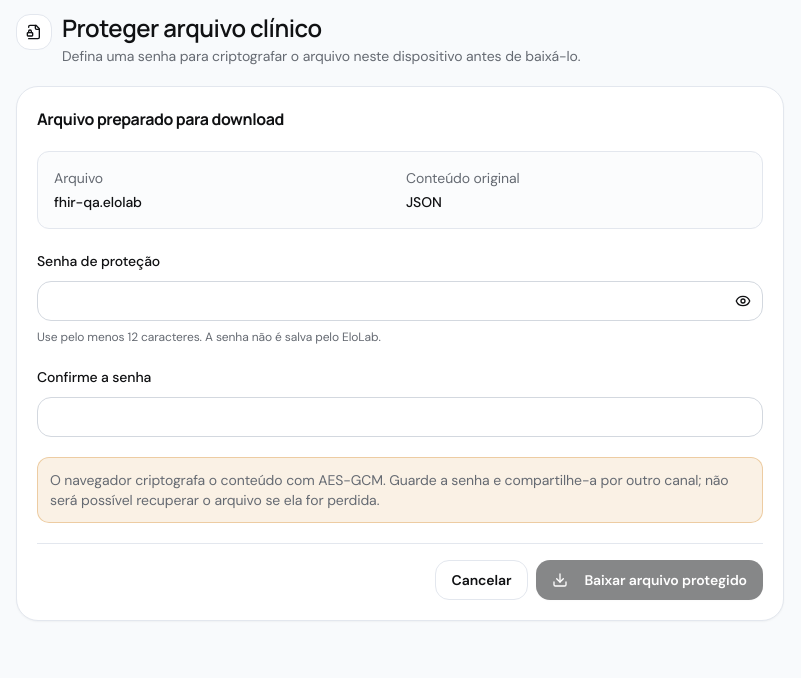
ExportacaoClinicaProtegida › keeps the page and password when the audit step fails
Type "SenhaMuitoSegura123" into the password field labelled "Senha de proteção" at [400, 301], box [37,281,763,321]
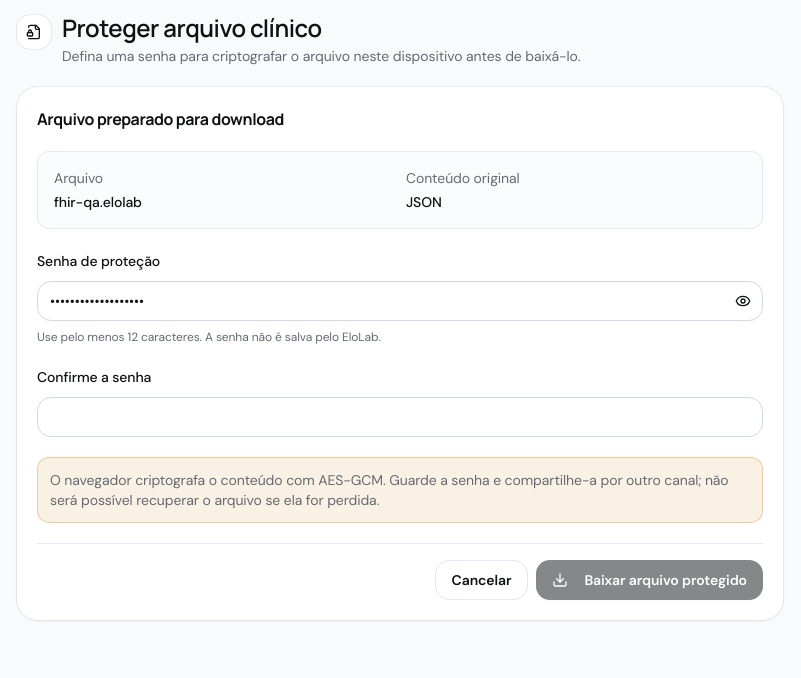
Type "SenhaMuitoSegura123" into the password field labelled "Confirme a senha" at [400, 417], box [37,397,763,437]
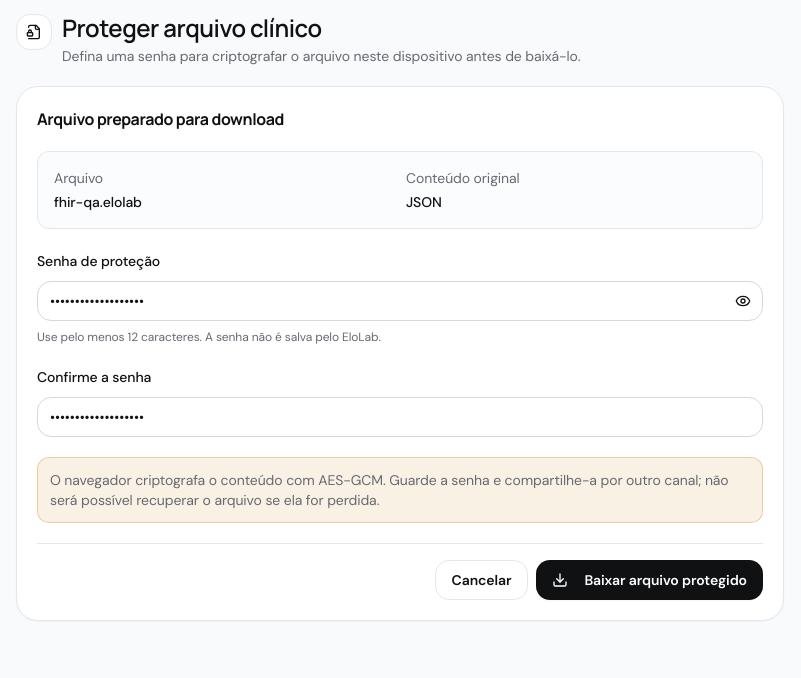
Click the button "Baixar arquivo protegido" at [650, 580], box [536,560,763,600]
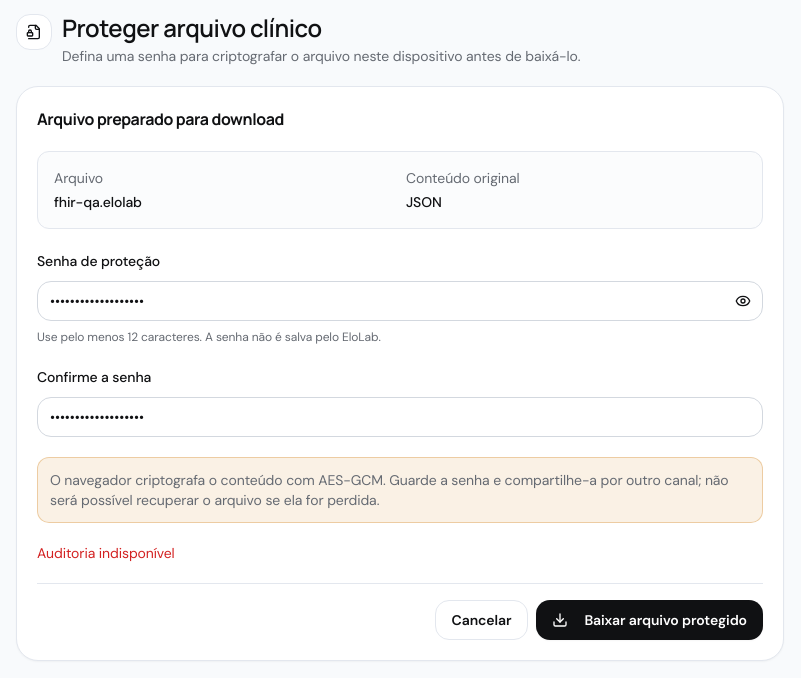
Now the message reads "Auditoria indisponível", box [37,544,175,562]
